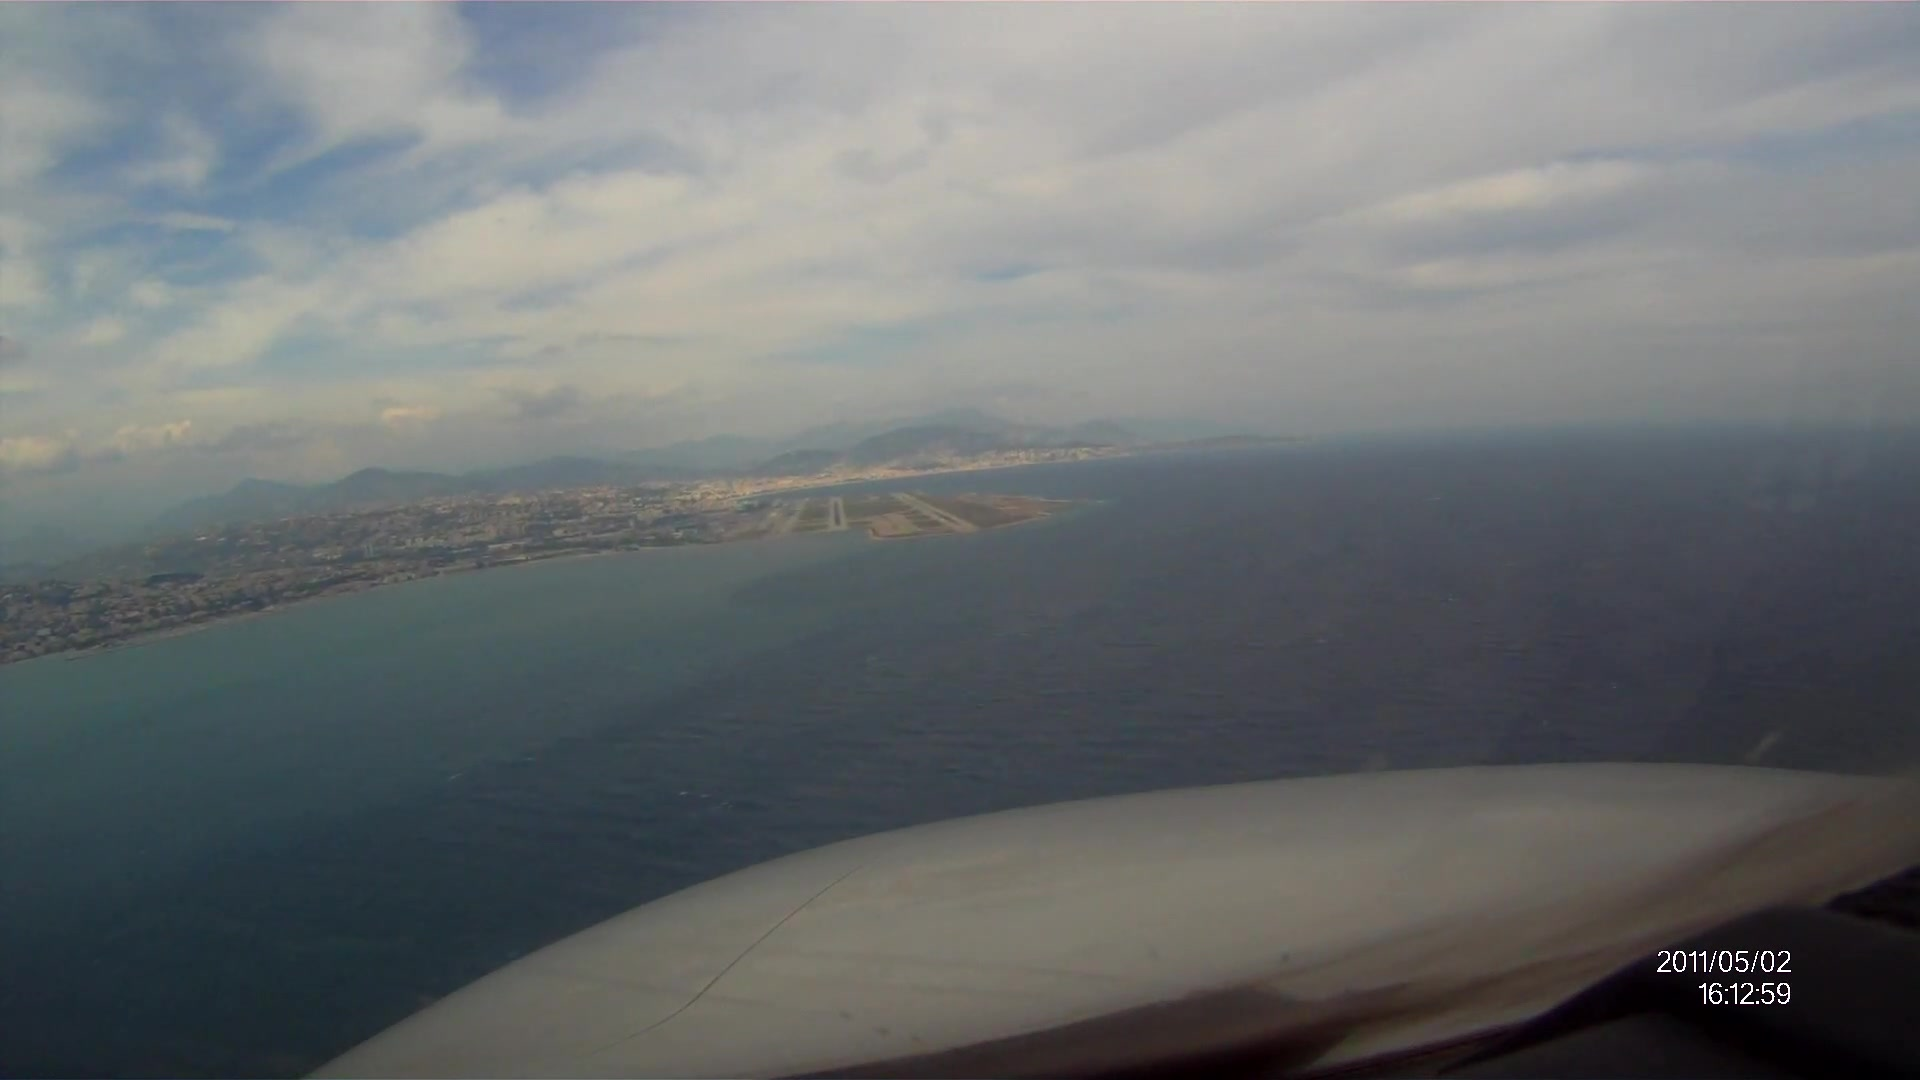runway: (889, 492, 982, 535), (824, 496, 848, 535)
